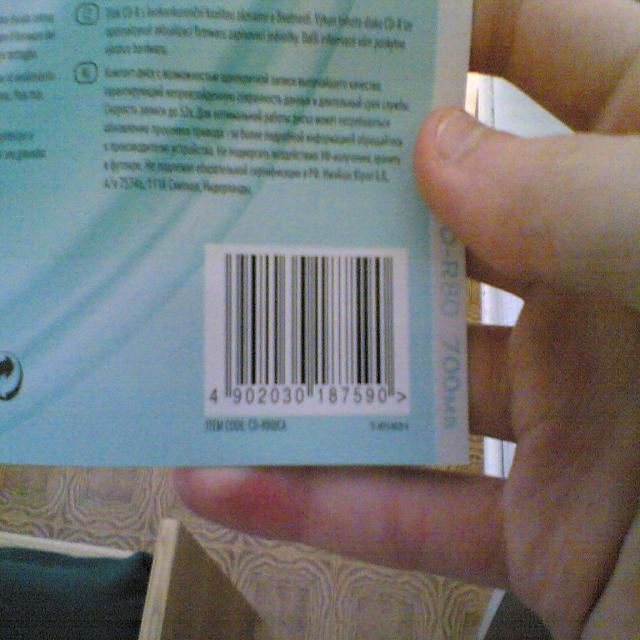barcode: (204, 247, 409, 420)
